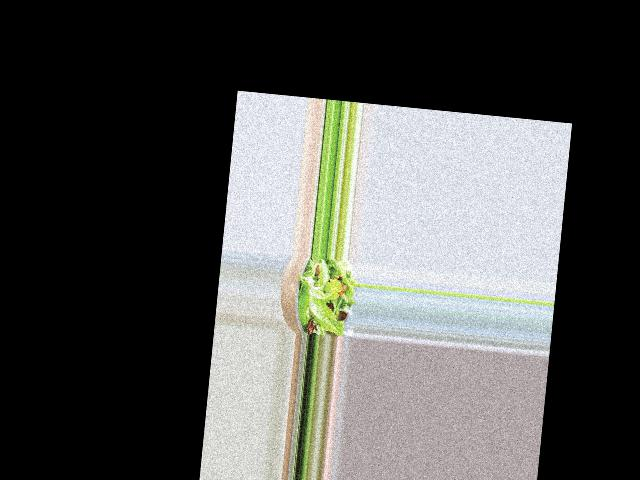lettuce: (295, 260, 355, 331)
